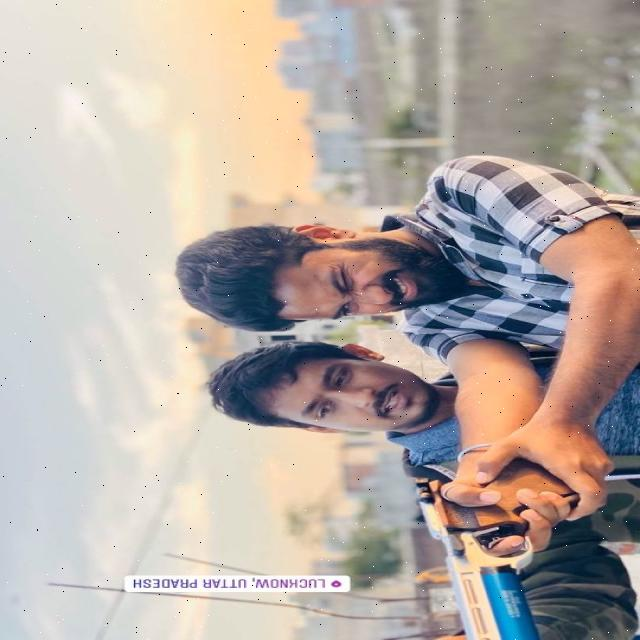gun: (402, 450, 640, 639)
